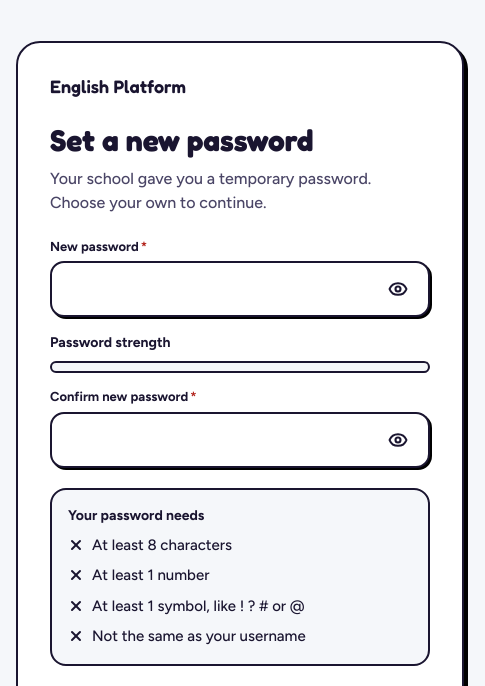
SetNewPasswordPage › blocks submission when the passwords do not match
Type "abcdefg1!" into the password field labelled "New password*" at (218, 289), box [64,263,372,315]
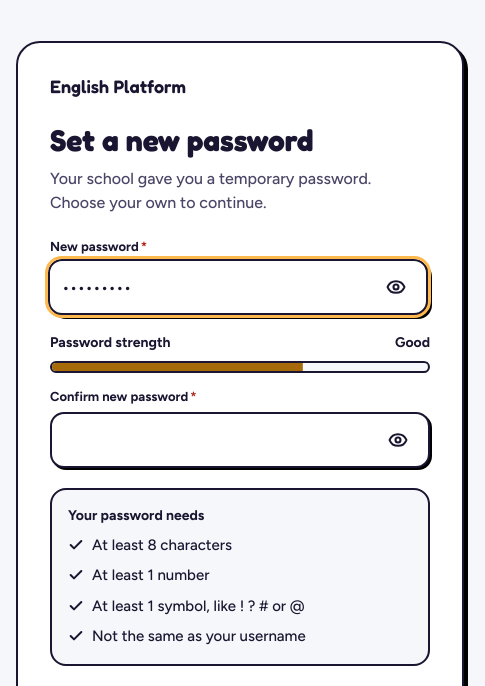
Type "abcdefg1?" into the password field labelled "Confirm new password*" at (218, 440), box [64,414,372,466]
(page scrolled)
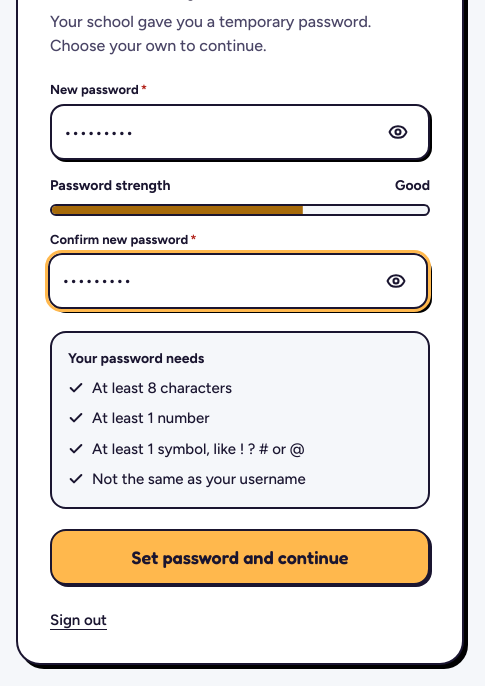
Click the button "Set password and continue" at (240, 556), box [50,528,430,584]
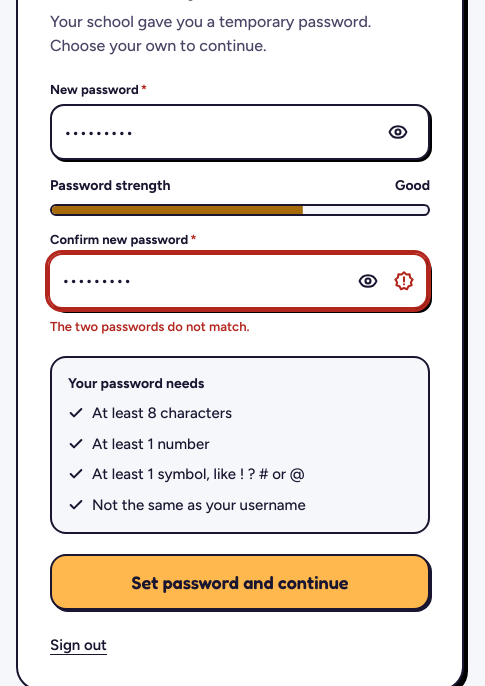
Now the text "The two passwords do not match." is shown, box [50,316,250,336]
